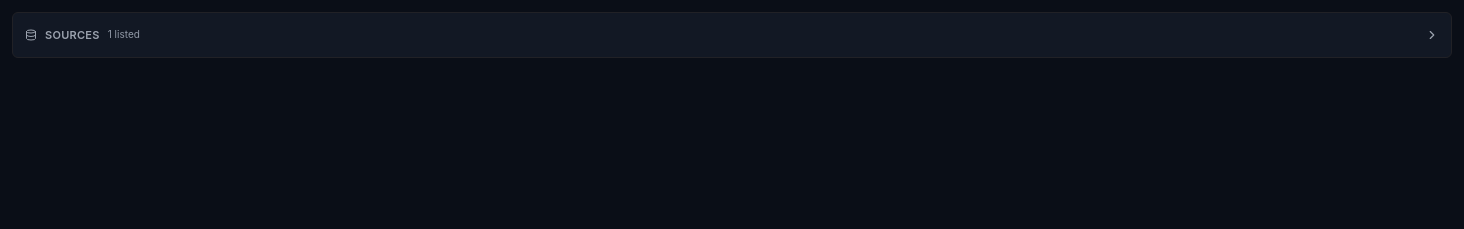
Test: CopilotEvidencePanel › connects the evidence disclosure control to its panel
Click the button "Sources 1 listed" at (72, 35), box 13,13 -> 1451,57
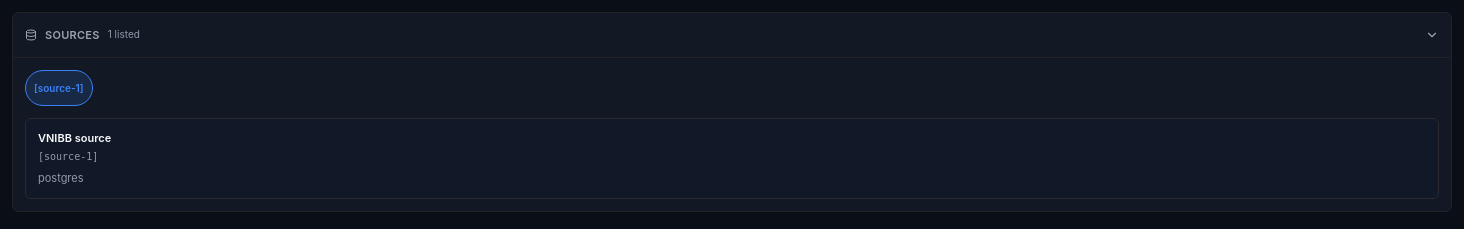
Check: the button "Sources 1 listed" is expanded, box 13,13 -> 1451,57
